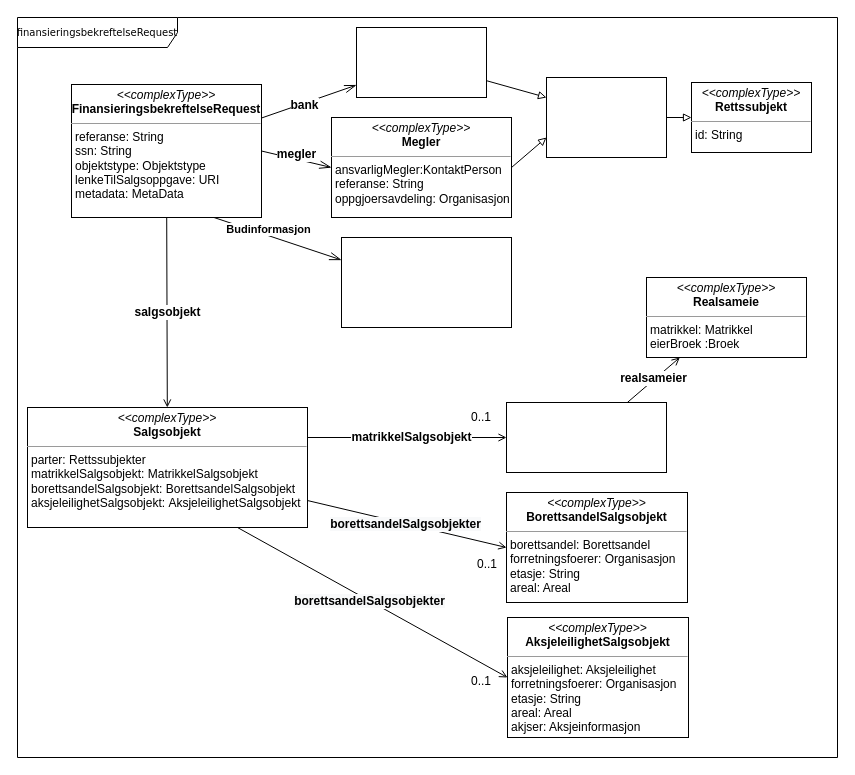
This 855x775 diagram has some shape labels left out. The shapes that lost their labels are listed below. From the top down, each one's box as (x1, y1, x2, y2) in pixels, then its label:
(356, 26, 486, 98): <<complexType>> Mottaker referanse: String
(546, 76, 666, 158): <<complexType>> Organisasjon foretaksnavn: String adresse: Adresse
(340, 236, 512, 328): <<complexType>> Budinformasjon budbelop: Double akseptfrist: Date
(506, 402, 666, 472): <<complexType>> MatrikkelSalgsobjekt matrikkel: Matrikkel
